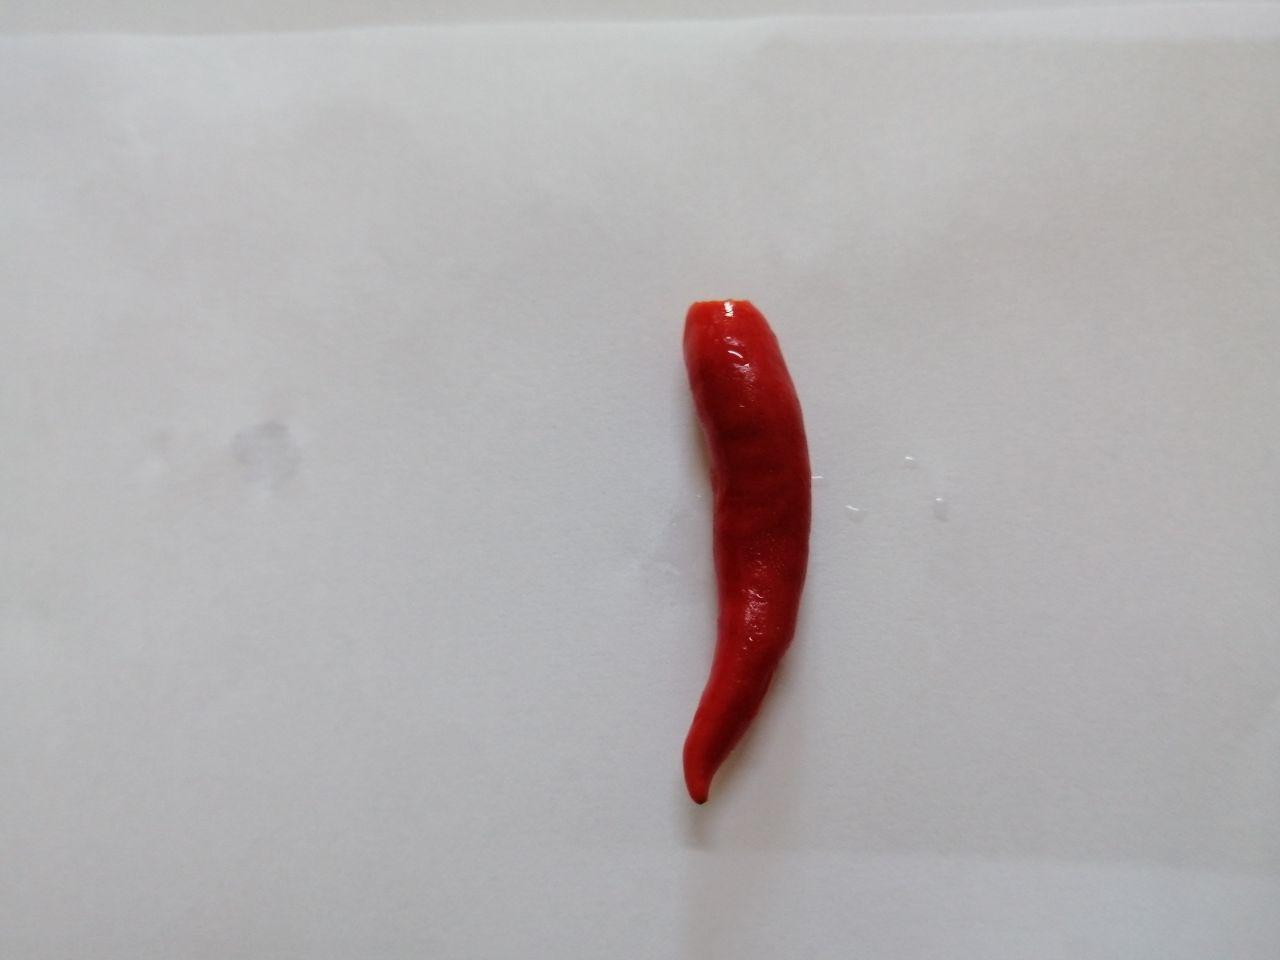lada merah: (655, 289, 827, 828)
